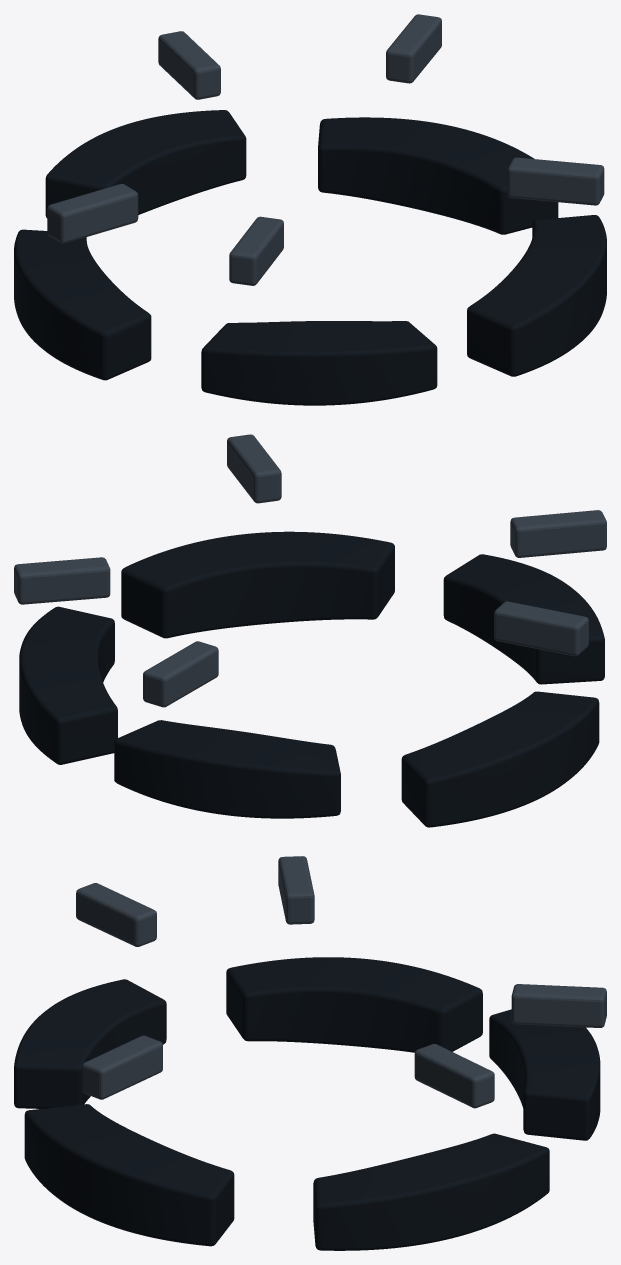
File: ev_core_r11c_stator.glb
3 views of the same model, one above another, from view 1: azimuth 30°, elevation 25°; view 2: azimuth 150°, elevation 25°; view 3: azimuth 270°, elevation 25° (orthographic).
Visible parts, largest first — view 1: RearStator_0, RearStator_3, RearStator_4, RearStator_2, RearStator_1, Bridge_4, Bridge_2, Bridge_1, Bridge_0, Bridge_3; view 2: RearStator_4, RearStator_1, RearStator_2, RearStator_0, RearStator_3, Bridge_0, Bridge_3, Bridge_2, Bridge_1, Bridge_4; view 3: RearStator_2, RearStator_0, RearStator_4, RearStator_3, RearStator_1, Bridge_1, Bridge_4, Bridge_3, Bridge_0, Bridge_2.
Boxes of the visible parts, bbox=[...] form: RearStator_0: bbox=[318, 117, 558, 234]; RearStator_3: bbox=[201, 321, 437, 405]; RearStator_4: bbox=[467, 215, 606, 376]; RearStator_2: bbox=[14, 229, 151, 380]; RearStator_1: bbox=[45, 110, 246, 218]; Bridge_4: bbox=[507, 157, 604, 205]; Bridge_2: bbox=[47, 184, 138, 243]; Bridge_1: bbox=[158, 31, 220, 99]; Bridge_0: bbox=[386, 14, 441, 83]; Bridge_3: bbox=[229, 216, 283, 285]; RearStator_4: bbox=[121, 531, 394, 638]; RearStator_1: bbox=[114, 720, 340, 818]; RearStator_2: bbox=[401, 691, 599, 827]; RearStator_0: bbox=[19, 606, 117, 764]; RearStator_3: bbox=[443, 554, 604, 684]; Bridge_0: bbox=[14, 557, 110, 604]; Bridge_3: bbox=[510, 510, 606, 557]; Bridge_2: bbox=[494, 601, 588, 656]; Bridge_1: bbox=[143, 641, 218, 707]; Bridge_4: bbox=[227, 434, 281, 503]; RearStator_2: bbox=[226, 957, 482, 1052]; RearStator_0: bbox=[313, 1133, 549, 1250]; RearStator_4: bbox=[24, 1104, 234, 1246]; RearStator_3: bbox=[14, 979, 166, 1108]; RearStator_1: bbox=[489, 1009, 600, 1140]; Bridge_1: bbox=[511, 984, 606, 1027]; Bridge_4: bbox=[82, 1035, 162, 1099]; Bridge_3: bbox=[76, 883, 156, 946]; Bridge_0: bbox=[414, 1044, 494, 1108]; Bridge_2: bbox=[278, 856, 314, 924].
Size of the model in its own units: 6.97 by 2.14 by 6.96.
